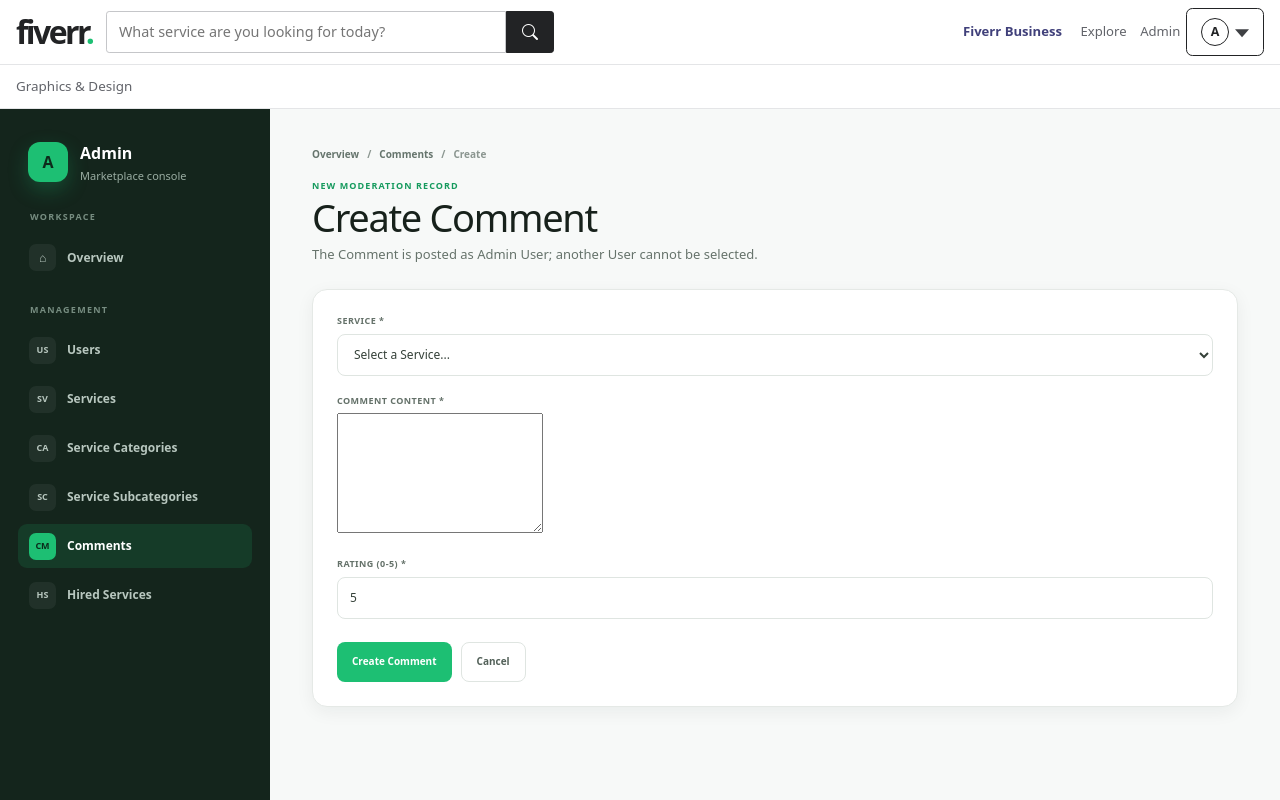
it: Administrator Comment safeguards › blocks creating a Comment for a Service that no longer exists
The width and height of the screenshot is (1280, 800).
Expected: the heading "Create Comment" is shown, [312, 191, 597, 243]
Select "Logo Design Service" in the dropdown labelled "Service *". click: x=775, y=355
box: [337, 334, 1213, 376]
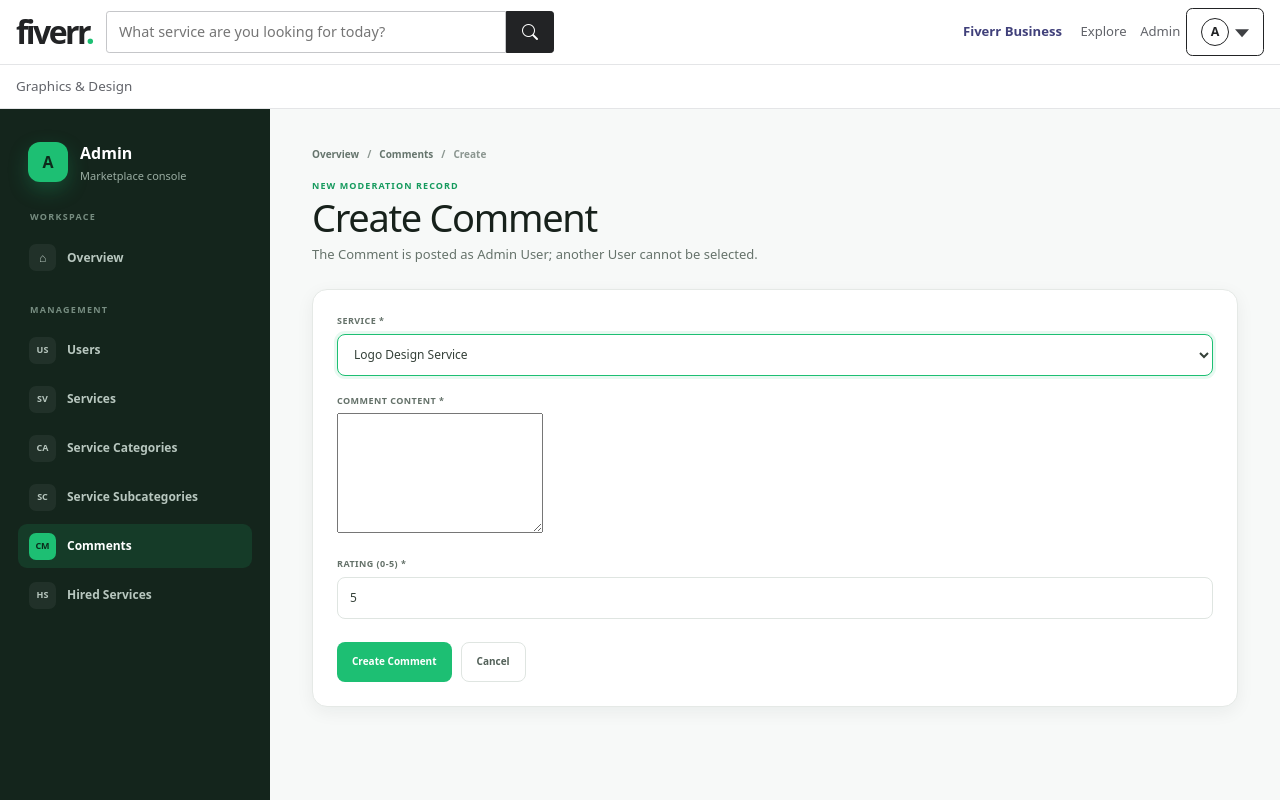
Type "New comment" into the text box labelled "Comment content *". click: x=440, y=473
box: [337, 413, 543, 533]
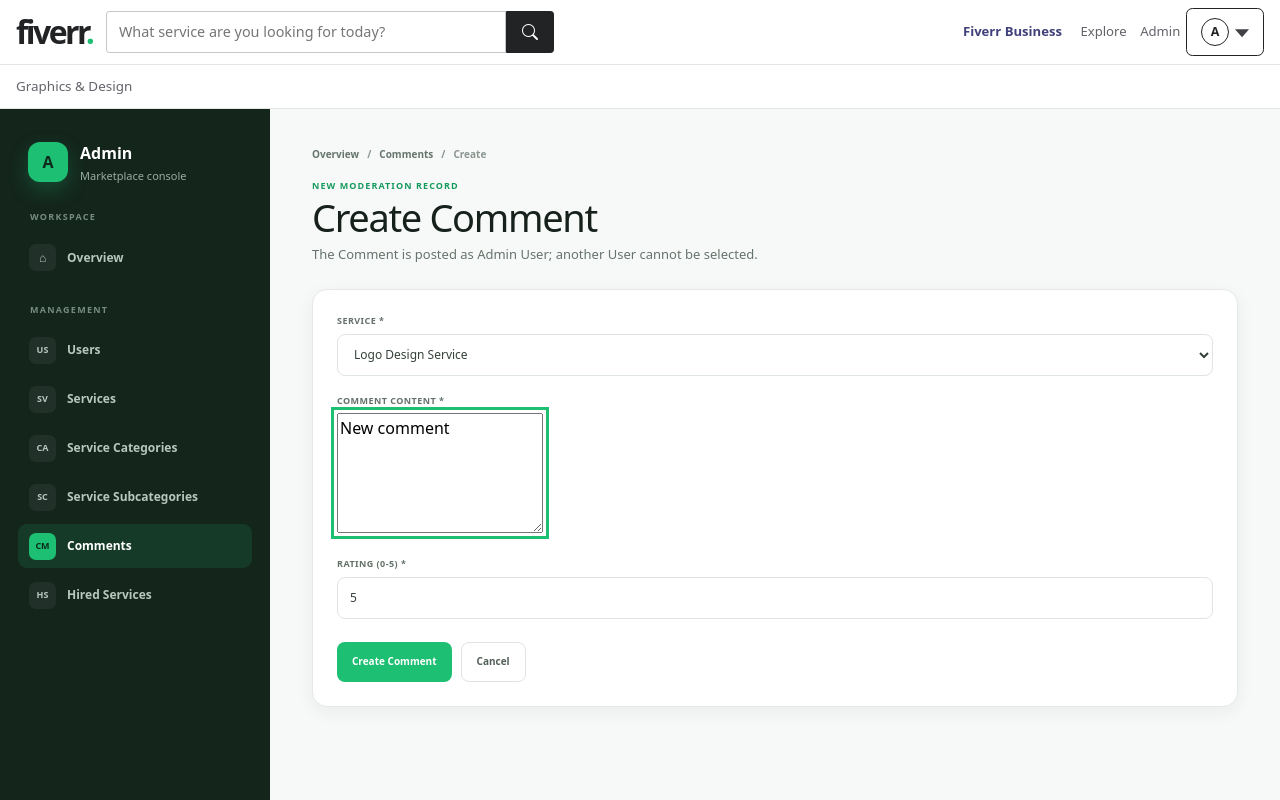
Click the button "Create Comment". click: x=394, y=662
box: [337, 642, 452, 682]
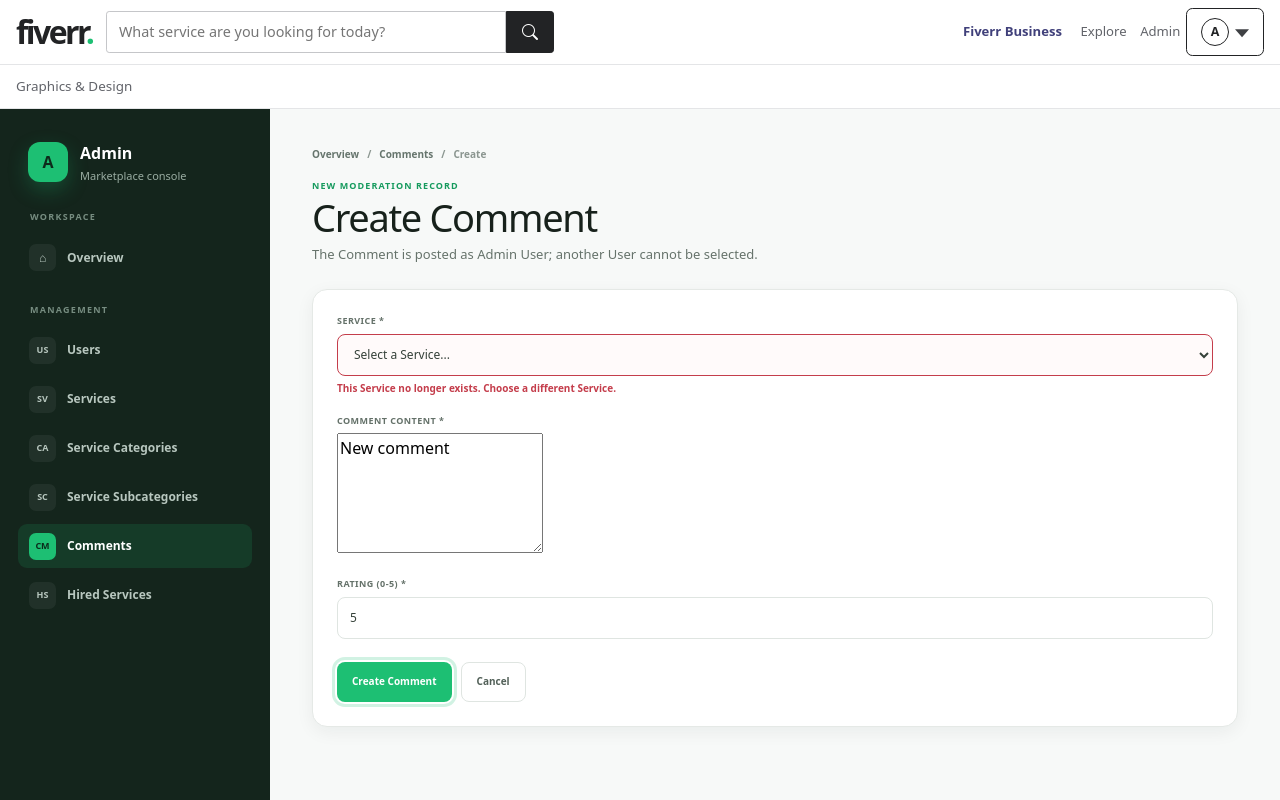
Expected: the text "This Service no longer exists. Choose a different Service." is shown, [337, 381, 616, 395]
